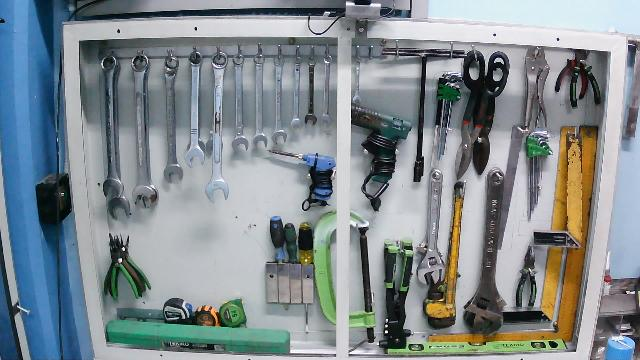gun_lem: (350, 102, 415, 216)
